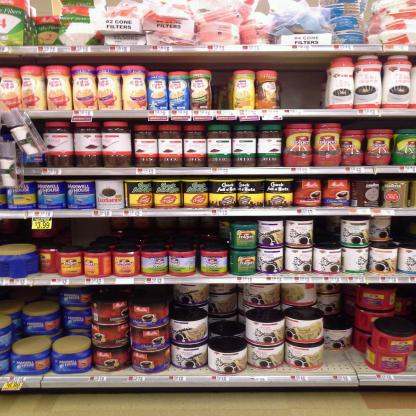Void: (67, 218, 224, 246), (283, 62, 318, 106), (330, 349, 362, 372), (218, 75, 232, 109), (316, 221, 336, 240), (398, 221, 409, 239)
